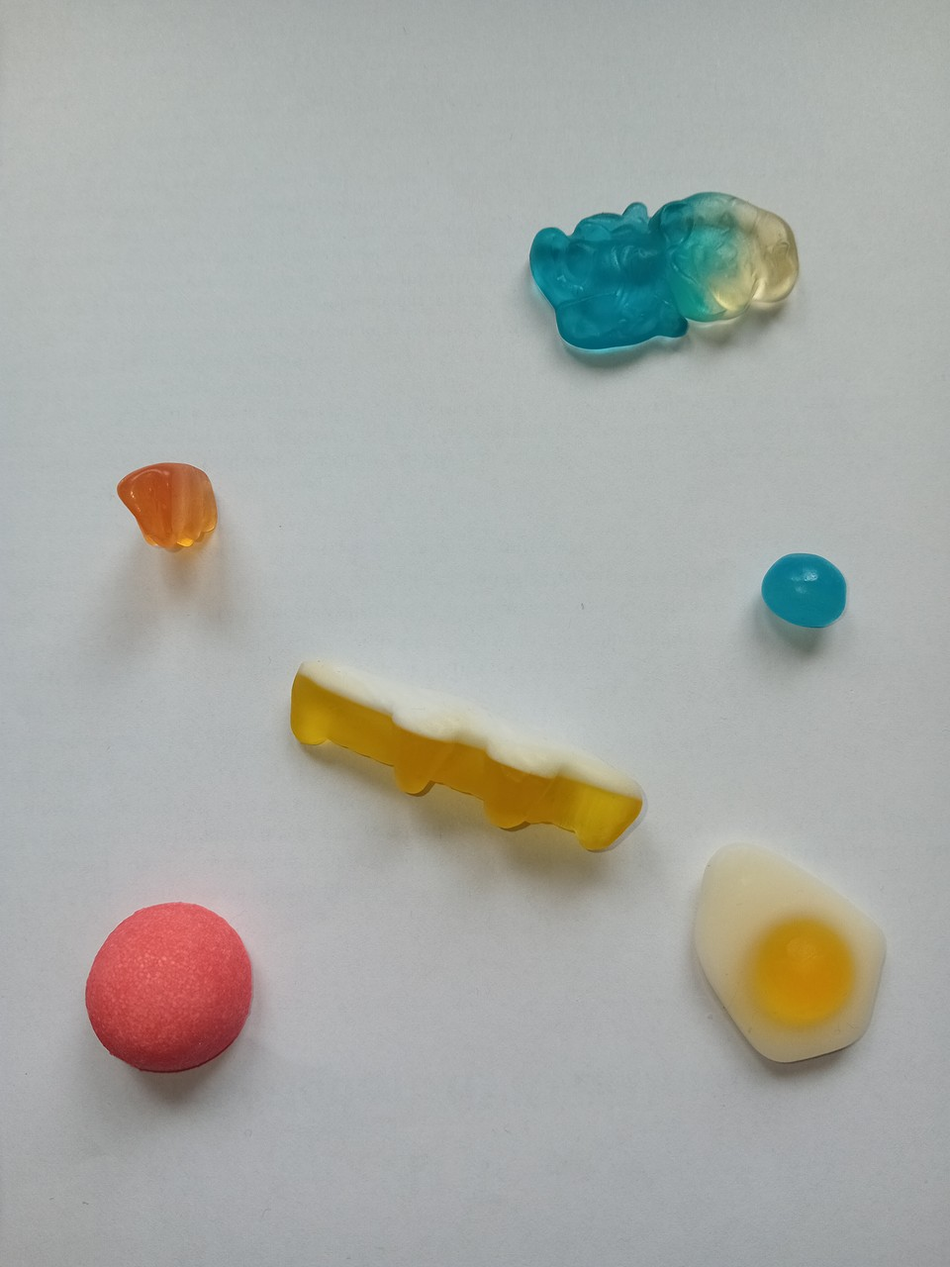crocodile_jaune: (281, 653, 651, 855)
dragibus_bleu: (756, 545, 855, 632)
oeuf_oeuf: (687, 837, 896, 1078)
ourson_orangeClair: (108, 452, 225, 553)
schtroumpf_bleu-blanc: (520, 185, 802, 356)
tagada_fraise: (72, 893, 259, 1078)
